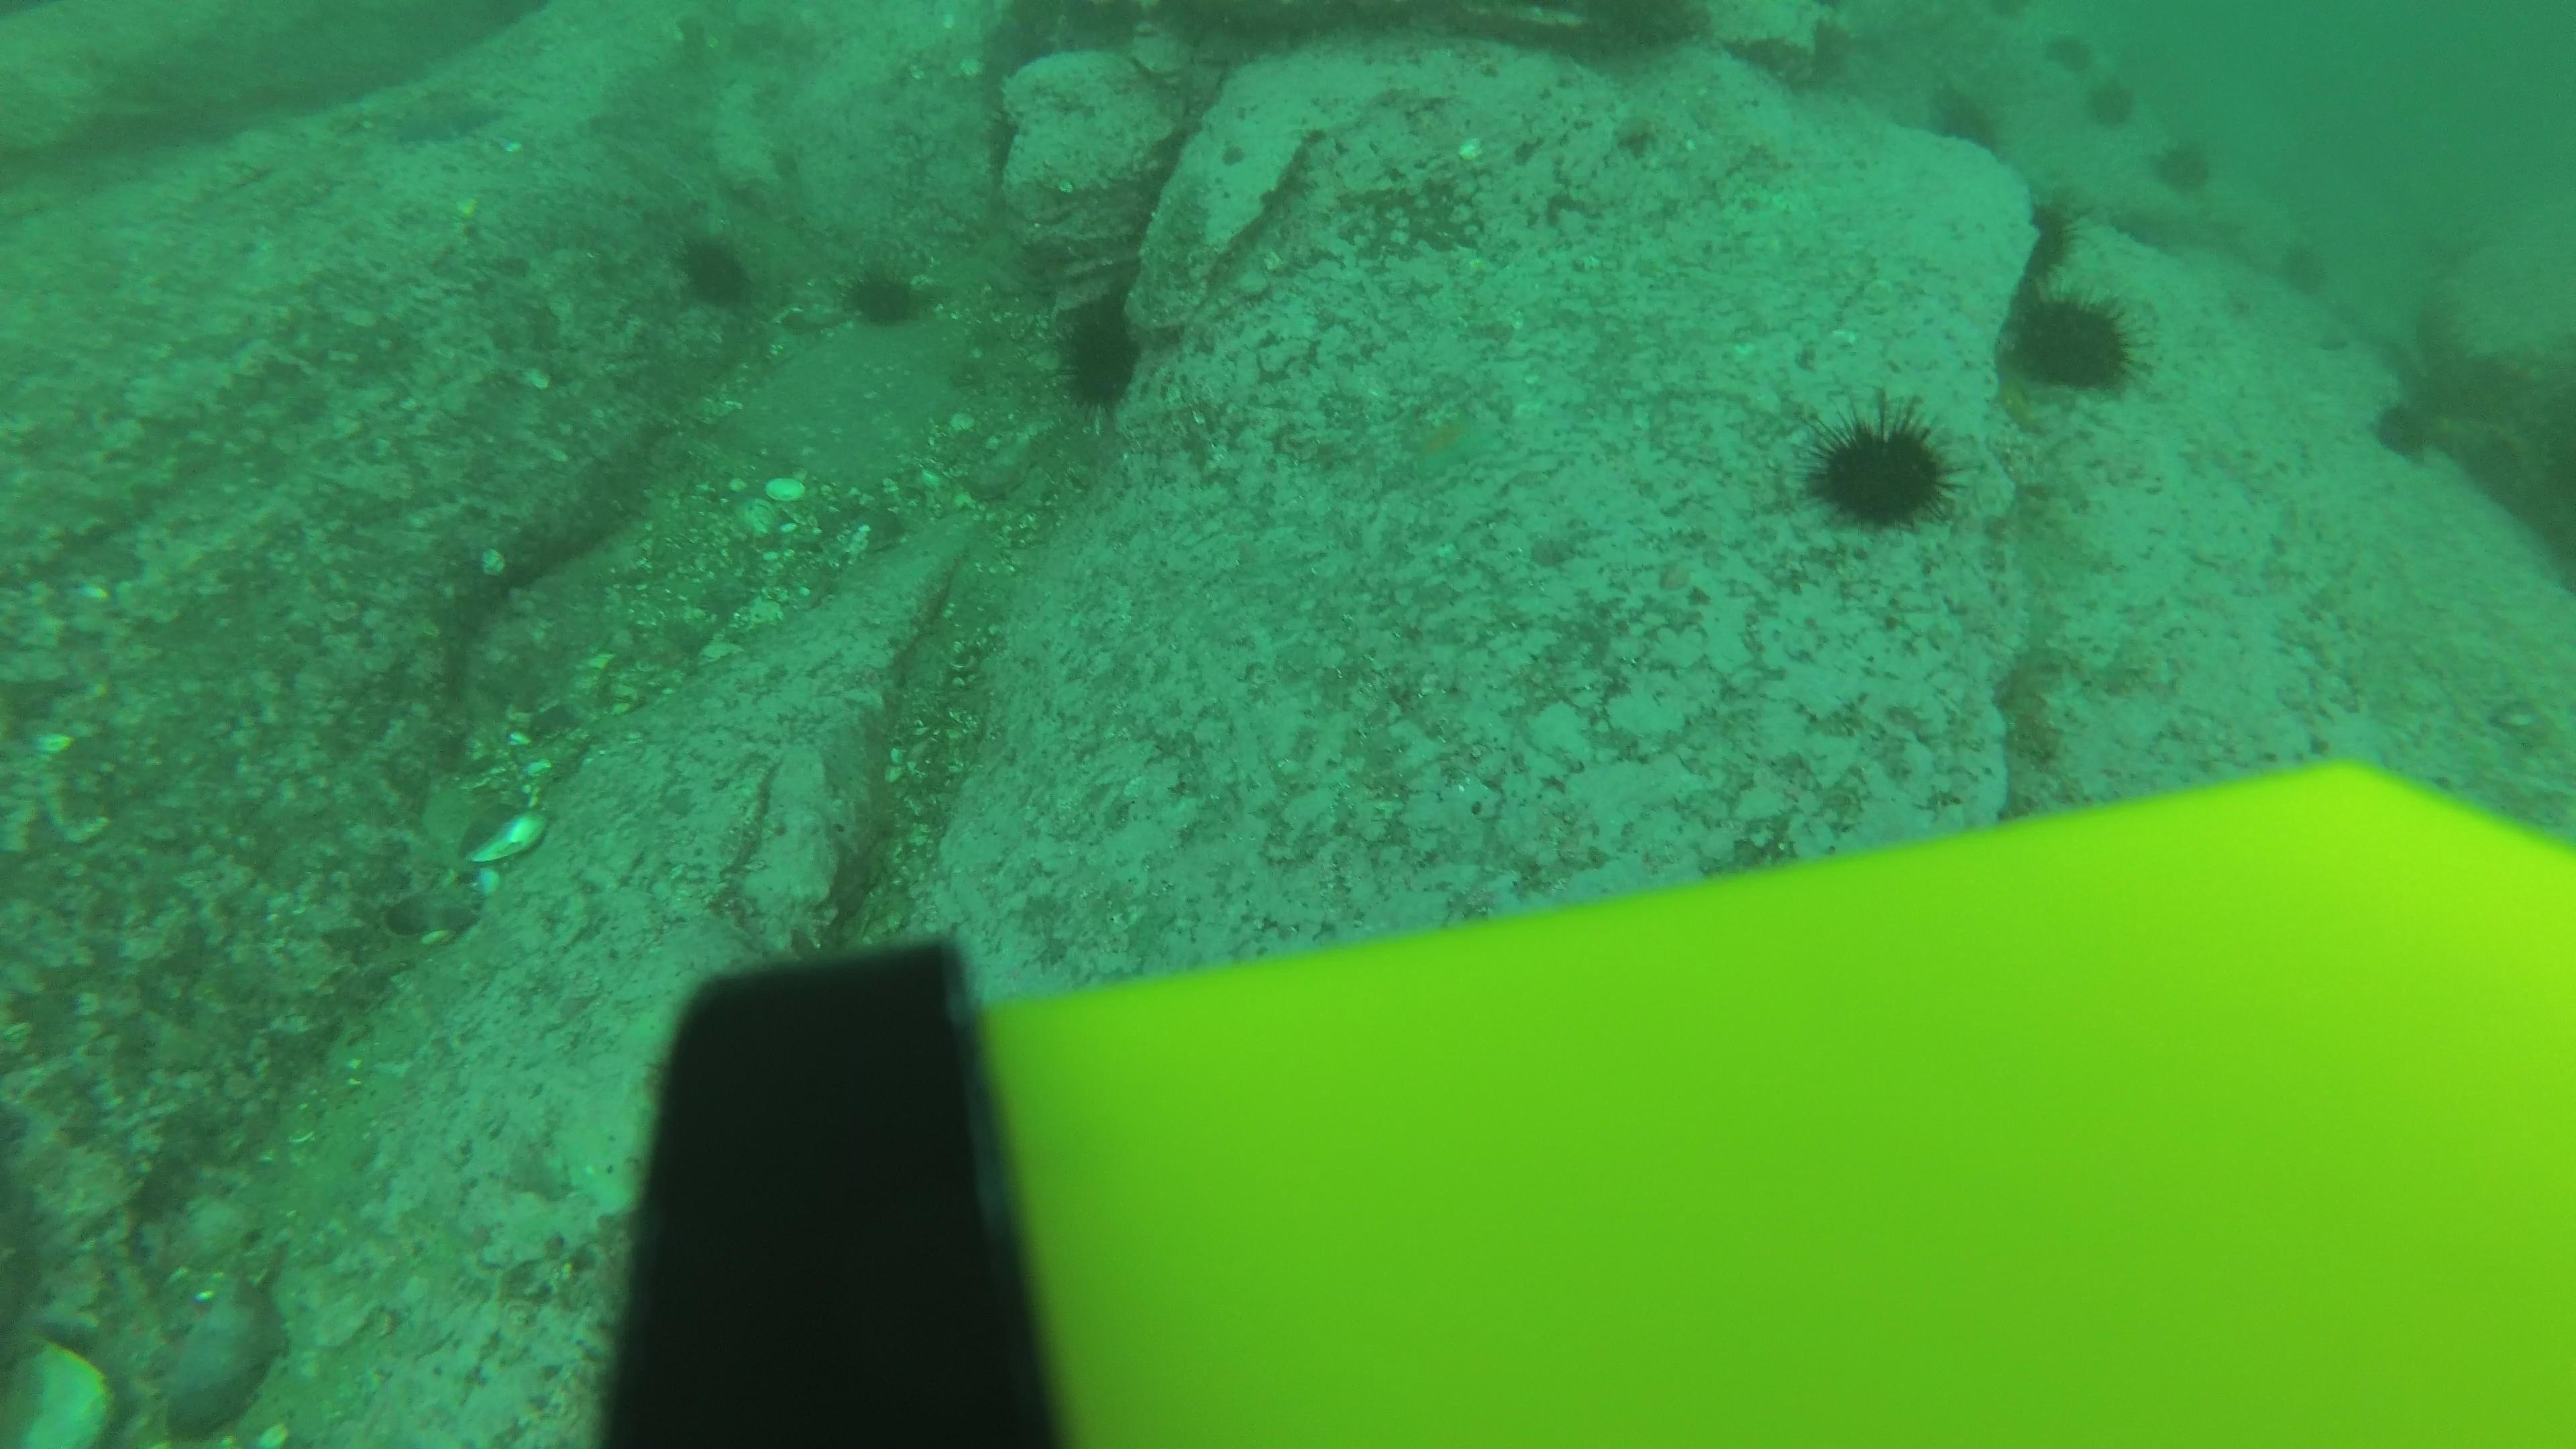echinus: (1803, 398, 1959, 534), (2003, 283, 2144, 398), (1051, 294, 1146, 412), (671, 228, 759, 311), (840, 257, 931, 331), (1925, 81, 2006, 154), (2019, 189, 2082, 278), (2367, 391, 2443, 464), (2151, 133, 2217, 196), (2277, 235, 2332, 297), (2082, 74, 2137, 131), (2045, 30, 2100, 87), (1983, 0, 2040, 34)
starfish: (375, 83, 506, 150), (1394, 398, 1499, 481)
